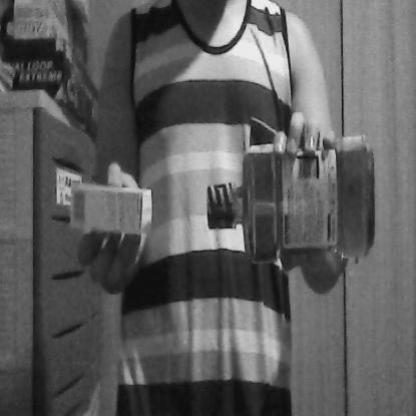Plastic Bottle: (196, 103, 384, 287)
